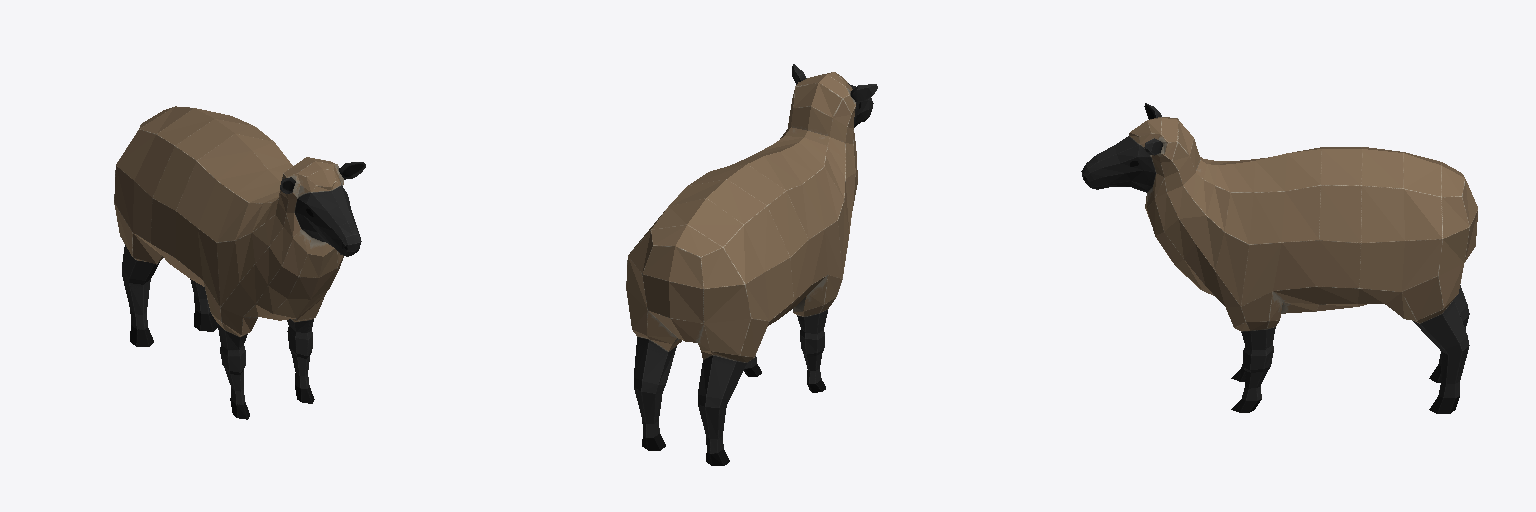
3 views of the same model, side by side, from view 1: azimuth 30°, elevation 25°; view 2: azimuth 150°, elevation 25°; view 3: azimuth 270°, elevation 25° (orthographic).
Parts seen in each view (by area): view 1: Sheep_mesh; view 2: Sheep_mesh; view 3: Sheep_mesh.
Part boxes in pixels (left/top/right/bottom): Sheep_mesh: left=114, top=106, right=365, bottom=419; Sheep_mesh: left=626, top=64, right=877, bottom=465; Sheep_mesh: left=1081, top=103, right=1477, bottom=413.
Bounding box in the file's own units: 2.46 × 4.93 × 6.42.
1 materials, 1 textured.